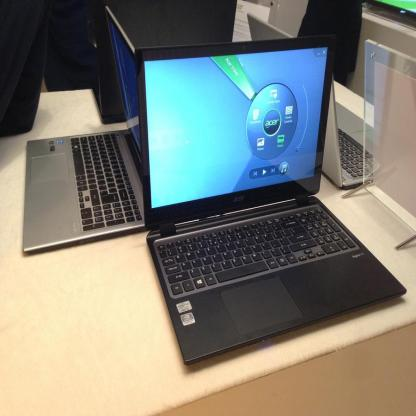board: (129, 31, 405, 376), (22, 3, 148, 257), (246, 12, 396, 189)
